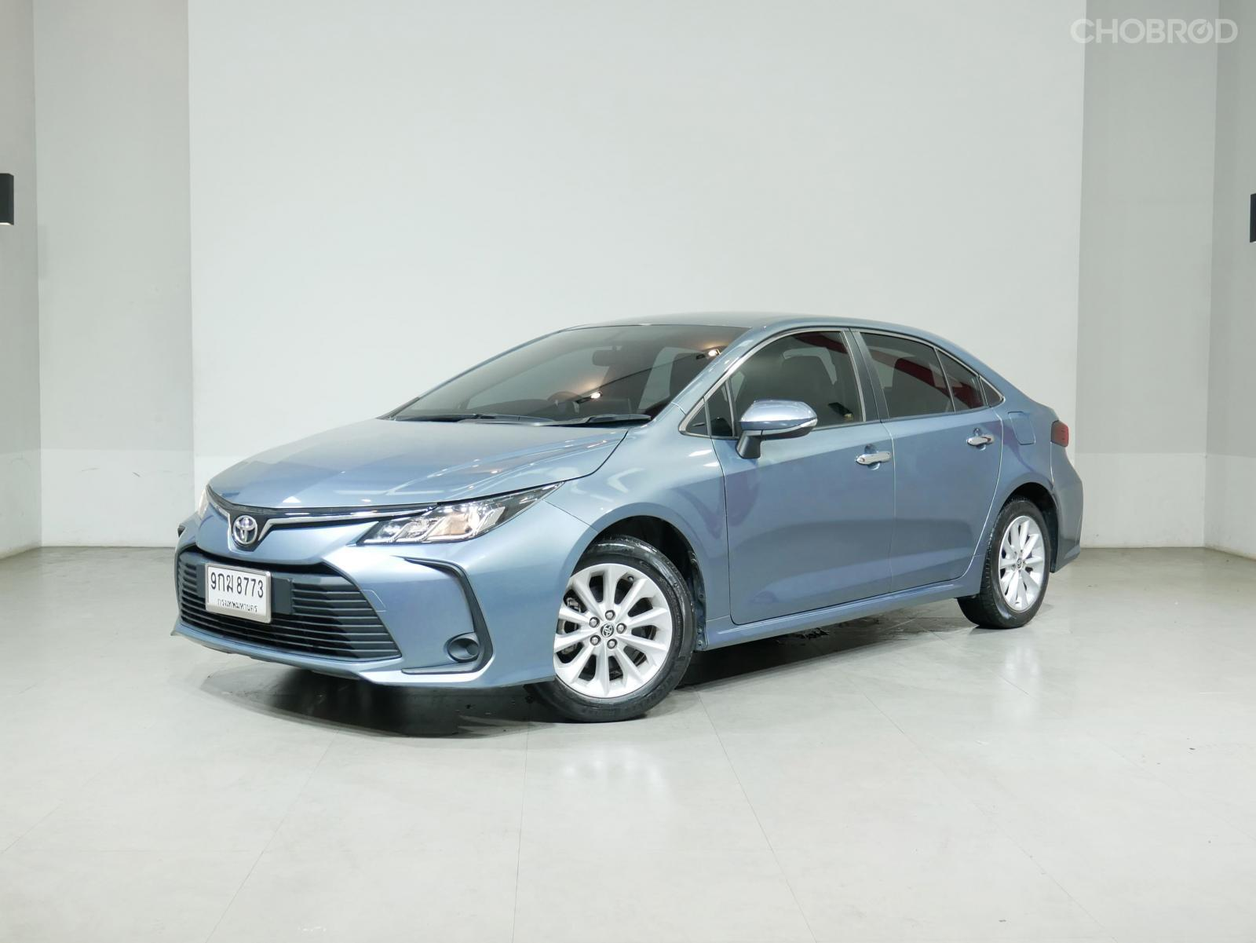license-plate: (203, 561, 272, 624)
